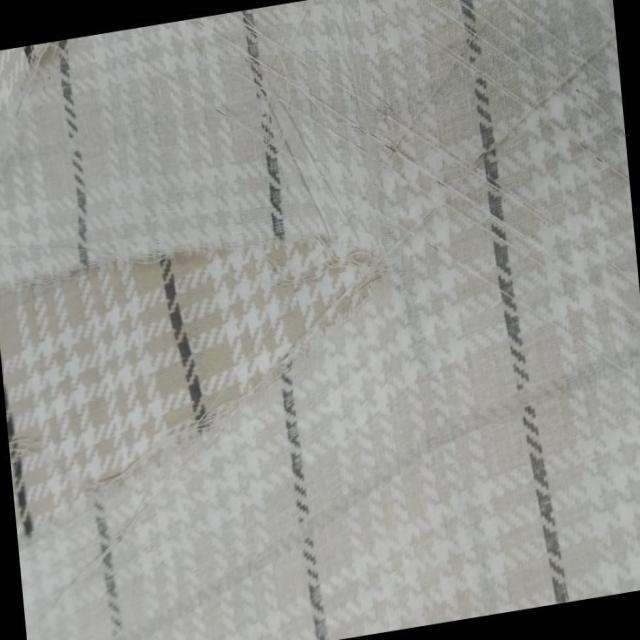cut: (0, 191, 424, 554)
